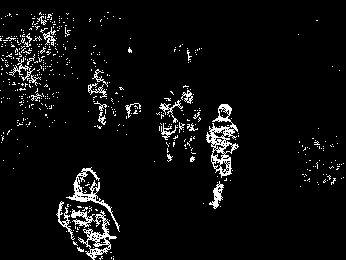person: (55, 168, 119, 260), (206, 102, 240, 209), (170, 83, 202, 164), (157, 89, 178, 163), (87, 69, 109, 130)
